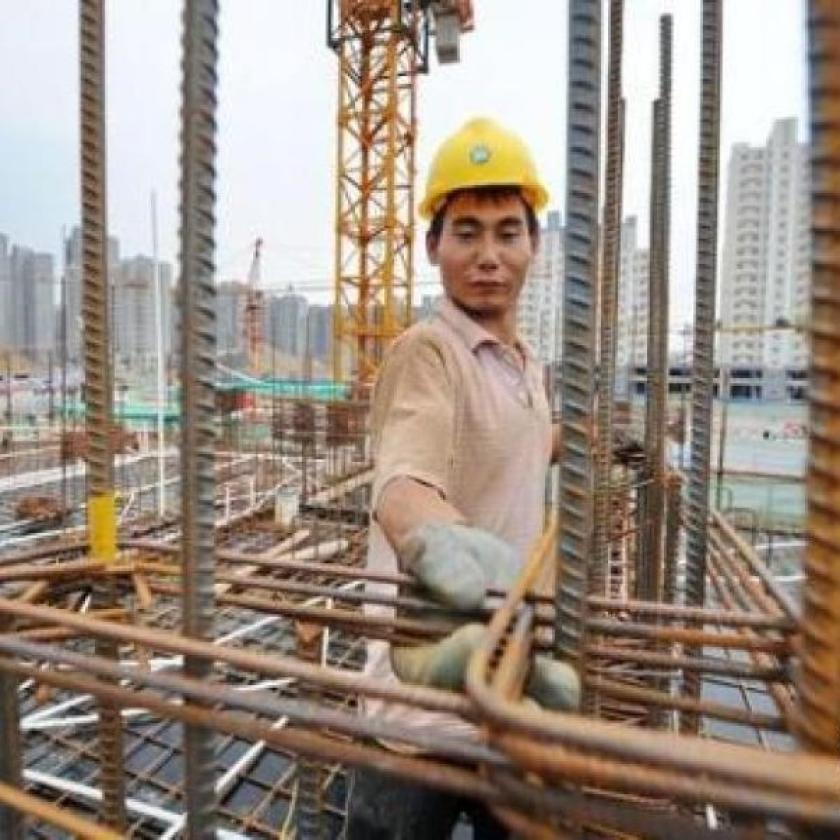Con_casco: (392, 110, 564, 320)
